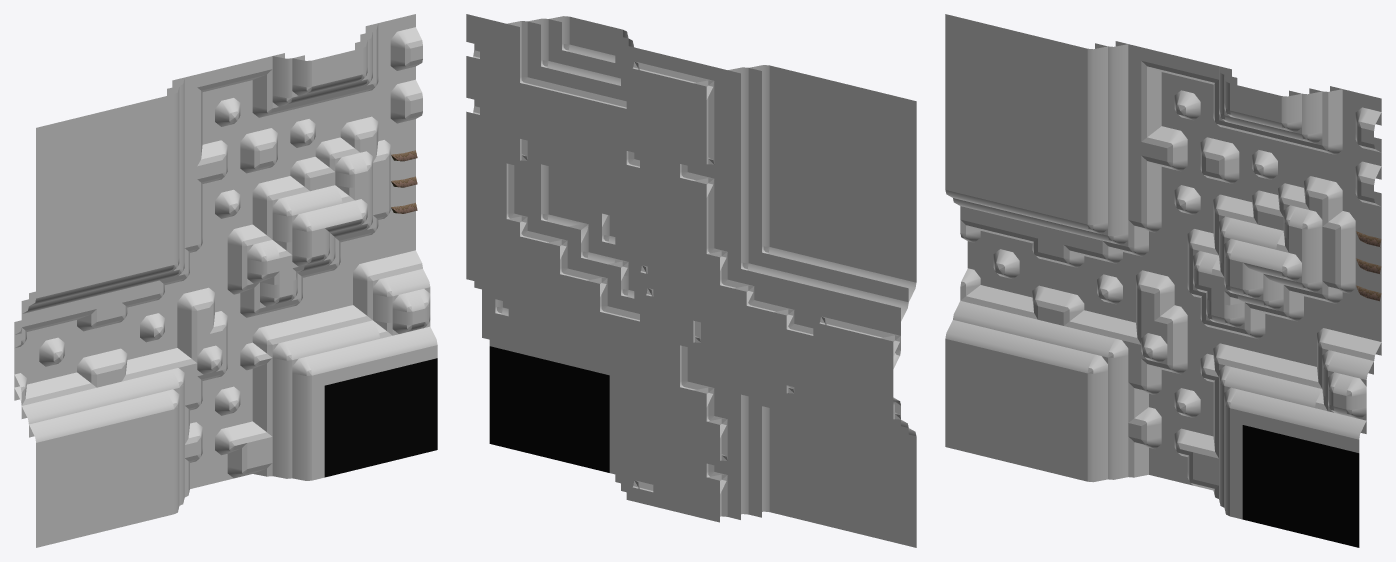
File: Voltic-Cave_02_04.obj
3 renders of one model, left to right at view 1: azimuth 30°, elevation 25°; view 2: azimuth 150°, elevation 25°; view 3: azimuth 330°, elevation 25°, orthographic. The views are drawn at different scales.
Visible parts, largest first — view 1: map; view 2: map; view 3: map.
Boxes of the visible parts, bbox=[...] form: map: bbox=[14, 14, 437, 547]; map: bbox=[466, 14, 916, 547]; map: bbox=[945, 14, 1381, 547].
Size of the model in its own units: 32 by 32 by 3.
